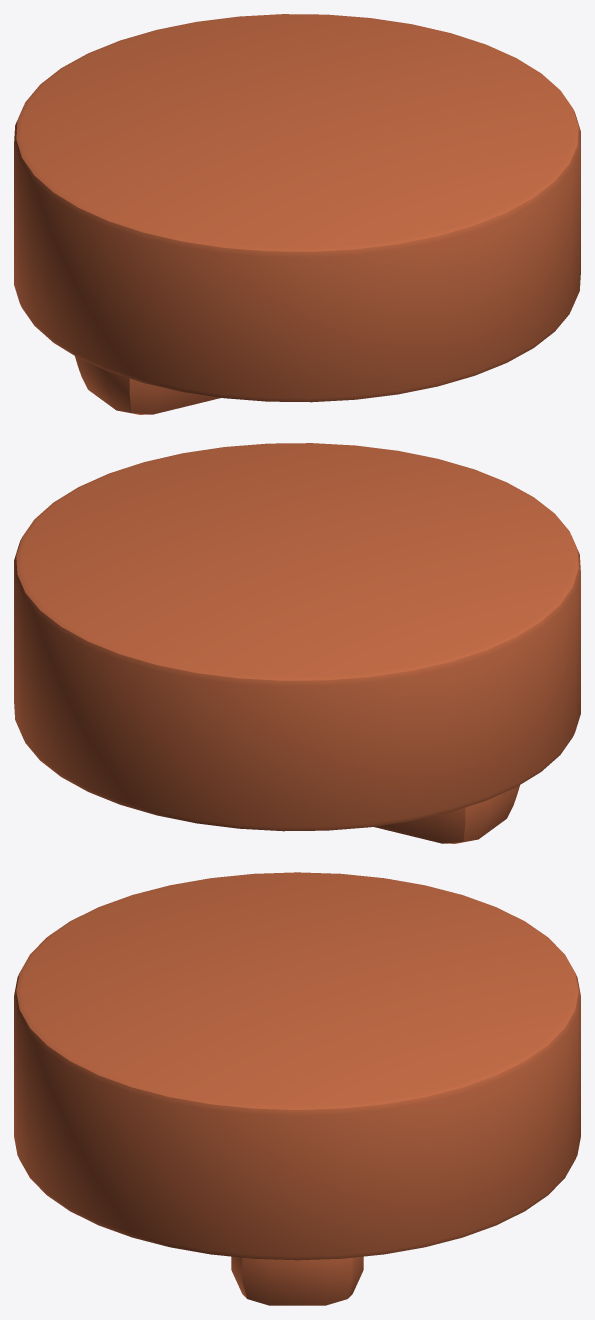
File: pressure_washer_main_switch.glb
3 renders of one model, top to bottom at view 1: azimuth 30°, elevation 25°; view 2: azimuth 150°, elevation 25°; view 3: azimuth 270°, elevation 25°, orthographic.
Visible parts, largest first — view 1: pressure_washer_main_switch; view 2: pressure_washer_main_switch; view 3: pressure_washer_main_switch.
Part boxes in pixels (x1,y1,x2,y2): pressure_washer_main_switch: (14, 14, 580, 414); pressure_washer_main_switch: (14, 443, 580, 843); pressure_washer_main_switch: (14, 872, 580, 1305).
Size of the model in its own units: 0.06 by 0.027 by 0.06.
